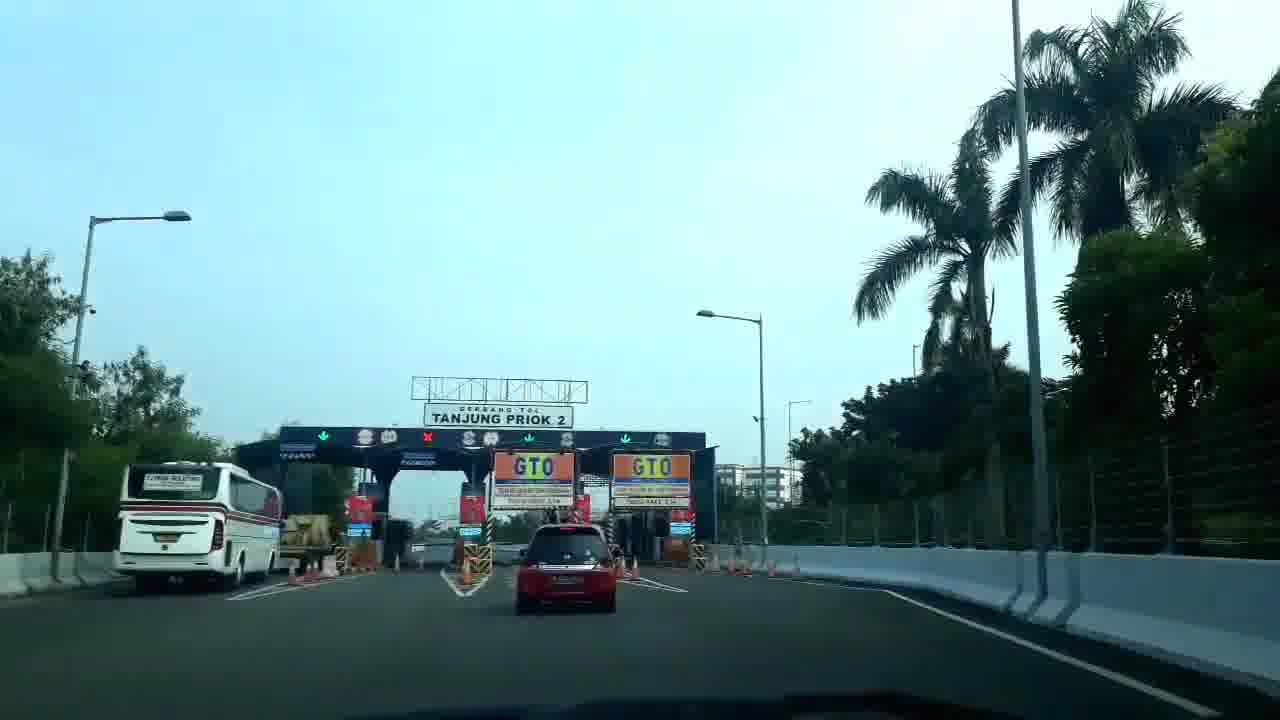plate_positive: (551, 574, 585, 585)
